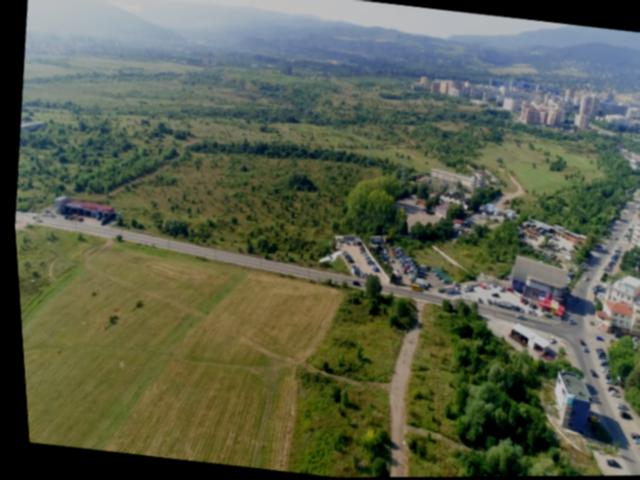plane: (313, 248, 337, 264)
